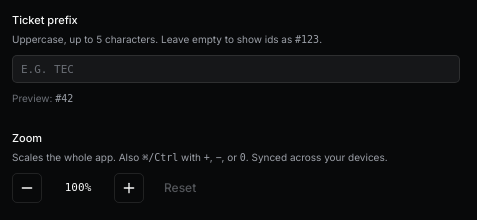
Scenario: GeneralSettings — zoom › Reset returns to 100% once zoomed away from default
This screenshot has width=477, height=220.
What coordinates should you click on to do the following:
click the button named "Zoom in"
I would click on:
 (129, 188)
Its box is [114, 173, 144, 203].
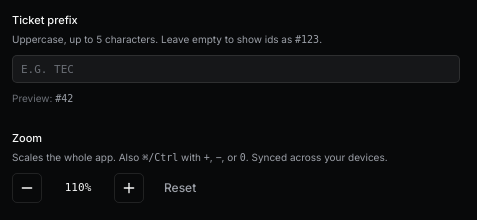
Check: the button "Reset" is enabled
What coordinates should you click on to do the following:
click the button "Reset"
I would click on:
 (180, 188)
Its box is [156, 175, 204, 201].
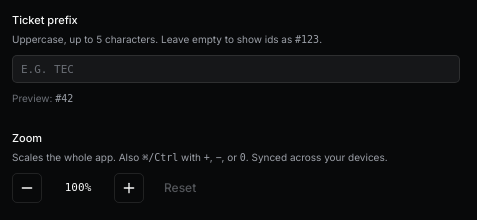
Check: the text "100%" is shown, box [65, 181, 91, 194]
